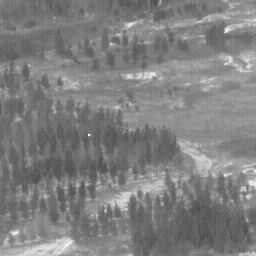aircraft: (88, 134, 90, 136)
